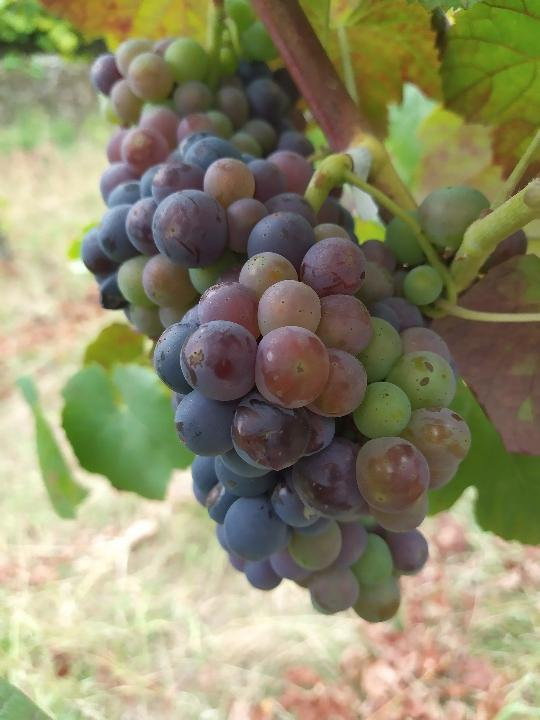grape: (78, 134, 475, 627)
